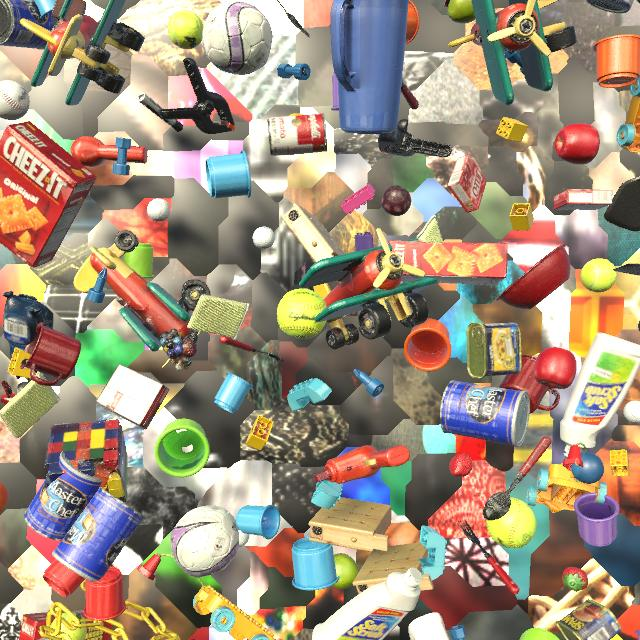ycb_002_master_chef_can: (52, 487, 145, 583), (24, 451, 103, 541), (440, 380, 530, 447), (0, 0, 54, 50)
ycb_003_cracker_box: (0, 121, 97, 268), (388, 240, 508, 286), (19, 609, 113, 640)
ycb_005_tomato_soup_can: (267, 113, 327, 156)
ycb_007_tuna_fish_can: (586, 0, 634, 13)
ycb_008_pudding_box: (96, 364, 170, 429)
ycb_009_gelatin_box: (447, 154, 487, 213), (554, 189, 612, 210)
ycb_010_potted_meat_can: (467, 322, 522, 379), (556, 599, 621, 640)
ycb_012_strawberry: (562, 567, 588, 592), (449, 453, 473, 477)
ycb_013_apple: (554, 123, 600, 165), (533, 347, 577, 389)
ycb_015_peach: (289, 113, 304, 116)
ycb_016_pear: (332, 553, 360, 589), (447, 0, 475, 23)
ycb_017_orange: (0, 482, 9, 513)
ycb_018_plum: (381, 185, 411, 216), (638, 321, 640, 331), (247, 639, 248, 640)
